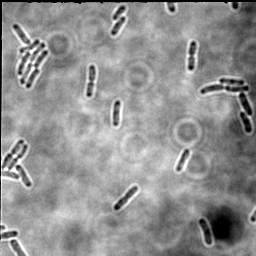Dividing: (112, 184, 140, 212), (198, 83, 251, 96), (84, 62, 98, 100), (186, 40, 199, 72)
Microcolony: (11, 22, 50, 90), (1, 139, 31, 189)
Rod: (197, 217, 213, 247), (174, 147, 192, 173), (109, 15, 127, 38), (237, 92, 254, 116), (111, 98, 123, 129), (238, 111, 252, 134), (111, 3, 128, 21), (218, 77, 246, 86)
